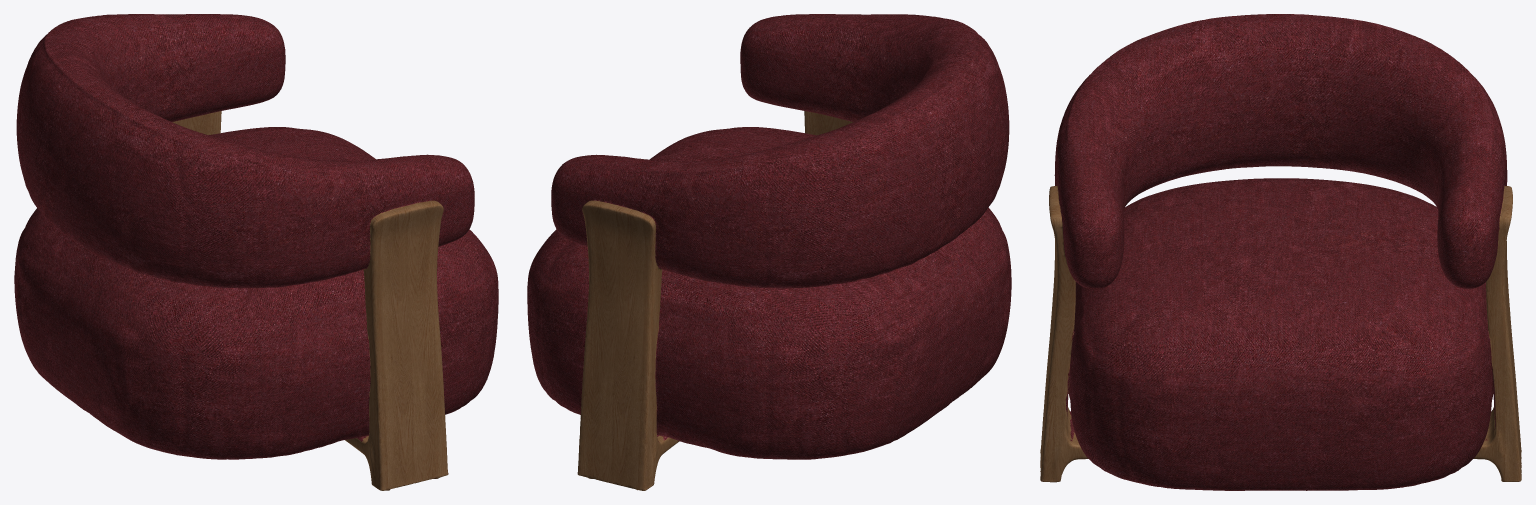
Rendered from BurgandyWoodArmChair.glb.
The picture shows the model from 3 angles, left to right: view 1: azimuth 30°, elevation 25°; view 2: azimuth 150°, elevation 25°; view 3: azimuth 270°, elevation 25°; orthographic projection.
Visible parts, largest first — view 1: world; view 2: world; view 3: world.
Part boxes in pixels (left/top/right/bottom): world: left=14, top=14, right=498, bottom=490; world: left=527, top=14, right=1011, bottom=490; world: left=1040, top=14, right=1521, bottom=490.
Bounding box in the file's own units: 0.8947 × 0.8121 × 1.
2 materials, 2 textured.
